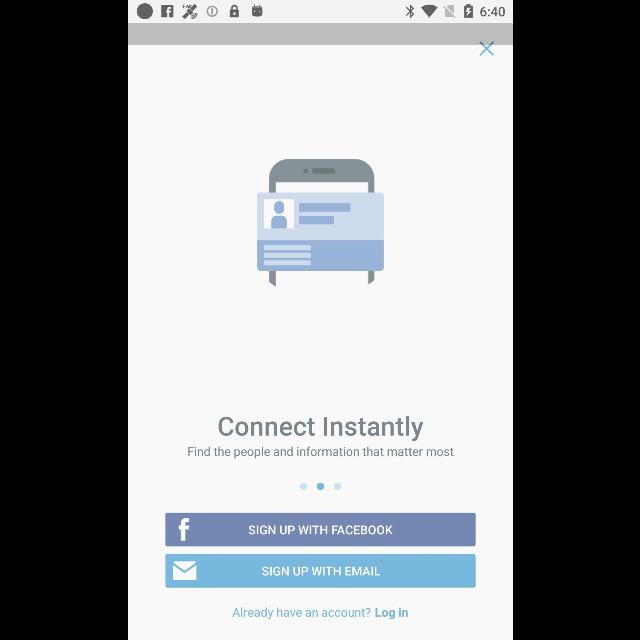icon: (479, 42, 493, 56)
image: (256, 159, 384, 287)
pageindicator: (297, 481, 343, 492)
text: (218, 416, 422, 442), (187, 447, 453, 459), (232, 607, 406, 619)
textbutton: (165, 512, 475, 546), (165, 554, 475, 588)
uppertaskbar: (128, 1, 512, 23)
